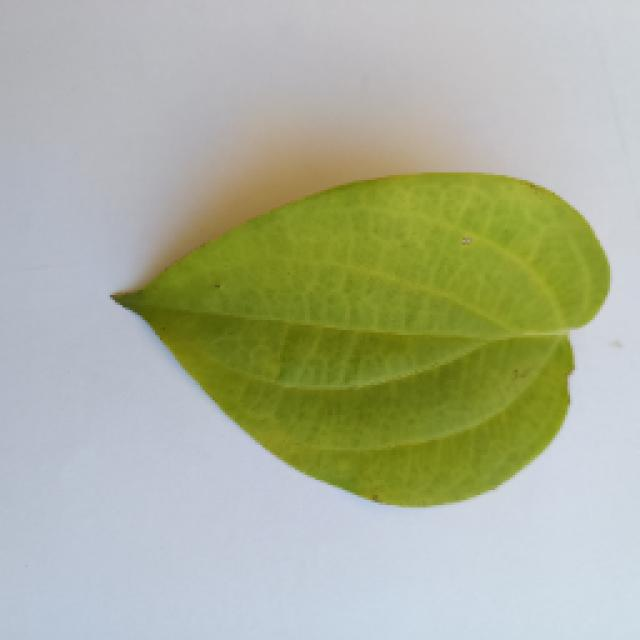slow-decline: (90, 158, 618, 512)
